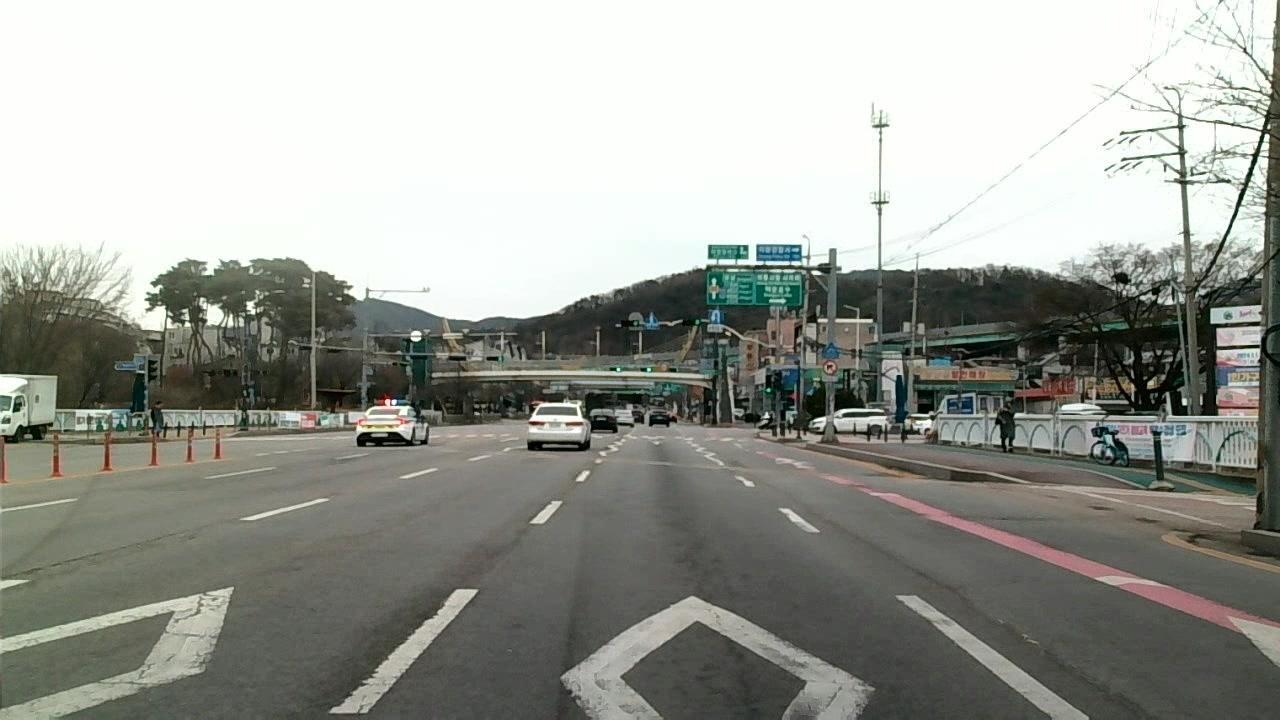erosion: (680, 547, 757, 720)
vcrack: (911, 561, 1040, 643), (5, 531, 176, 579), (1045, 647, 1137, 712), (815, 509, 903, 554)
